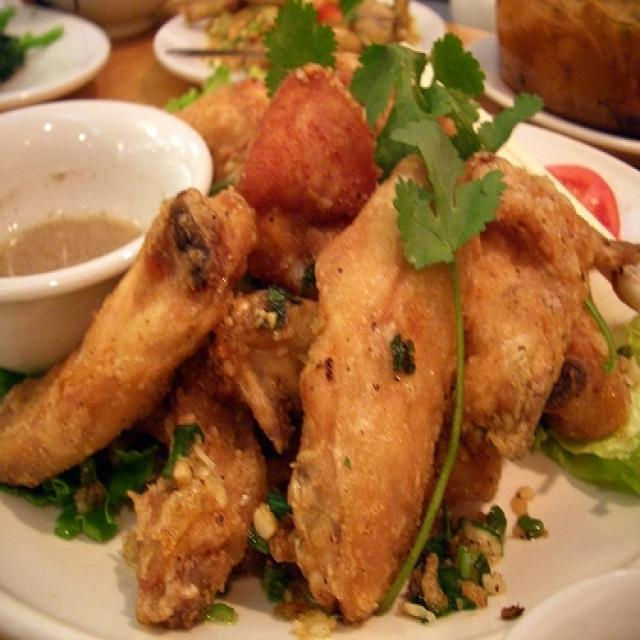鸡肉料理 含炸鸡: (25, 49, 616, 623)
